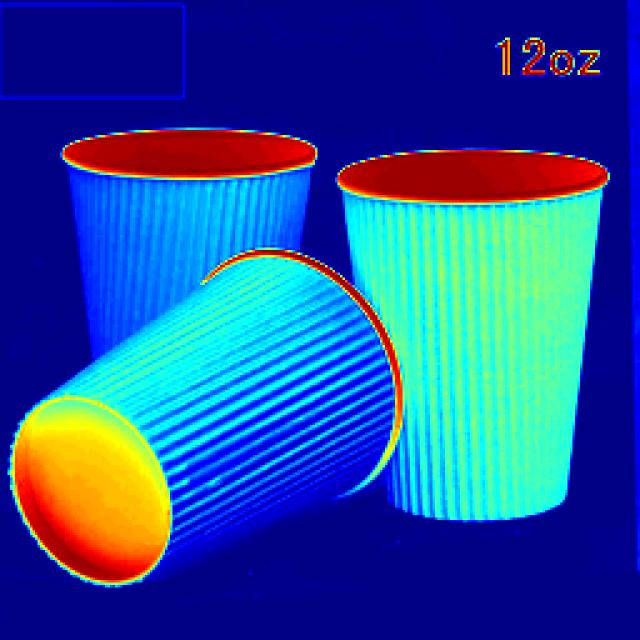Paper Cups: (11, 239, 393, 629), (319, 155, 619, 540), (53, 106, 317, 340)
